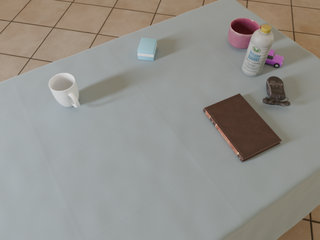book: (203, 94, 282, 162)
bottle: (242, 25, 274, 77)
box: (138, 38, 157, 61)
cup: (49, 73, 80, 108), (228, 18, 262, 49)
mouse: (262, 76, 290, 106)
toy_car: (265, 49, 284, 68)
